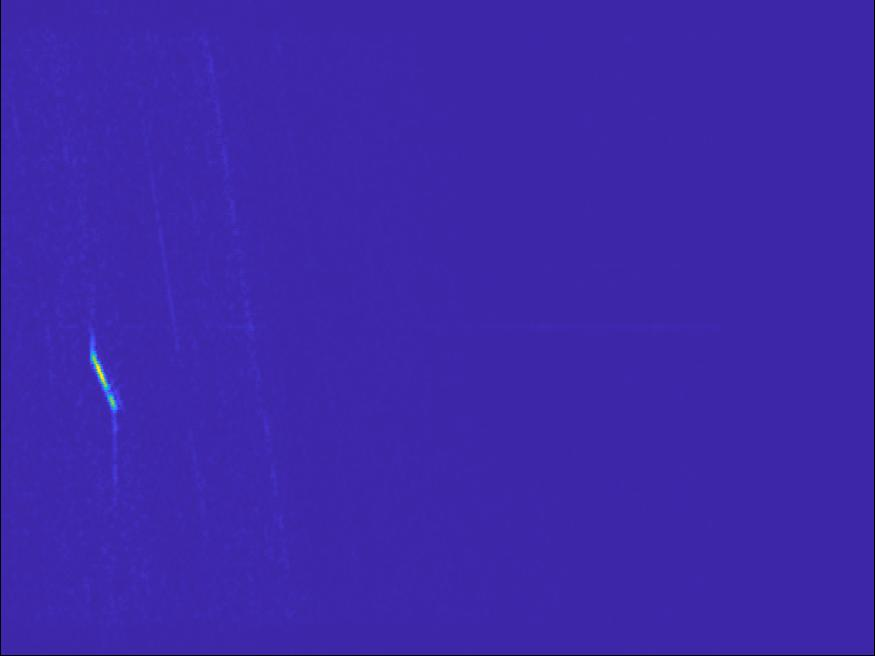Interference: (390, 91, 505, 140), (475, 302, 558, 346), (614, 244, 702, 279), (618, 431, 690, 467)
